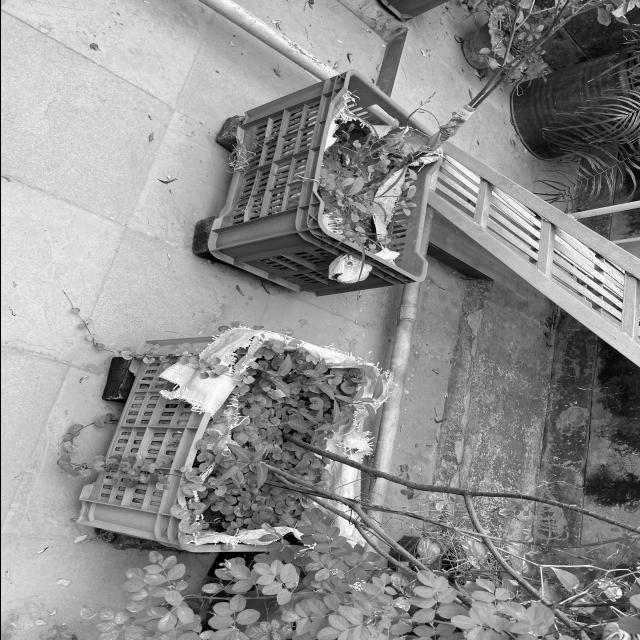Breeding Place: (144, 324, 367, 556), (214, 78, 423, 298), (509, 61, 640, 153)
